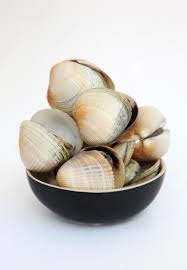cockle: (17, 106, 85, 175), (70, 87, 140, 148), (55, 145, 133, 199), (46, 57, 117, 114), (114, 104, 175, 165)
